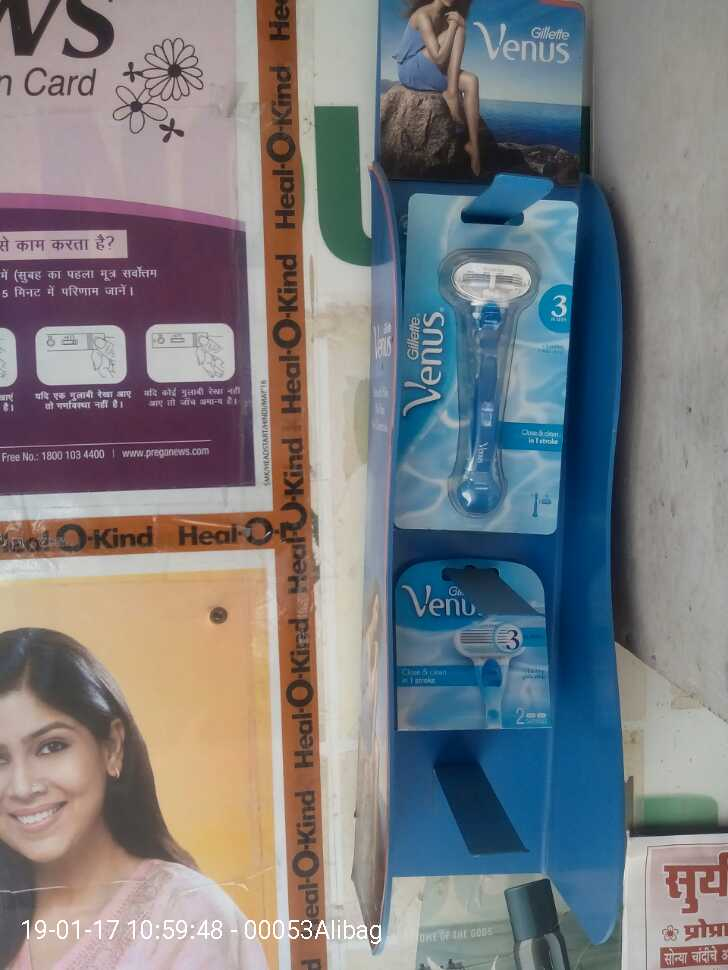venus: (391, 197, 560, 537), (383, 557, 558, 726)
